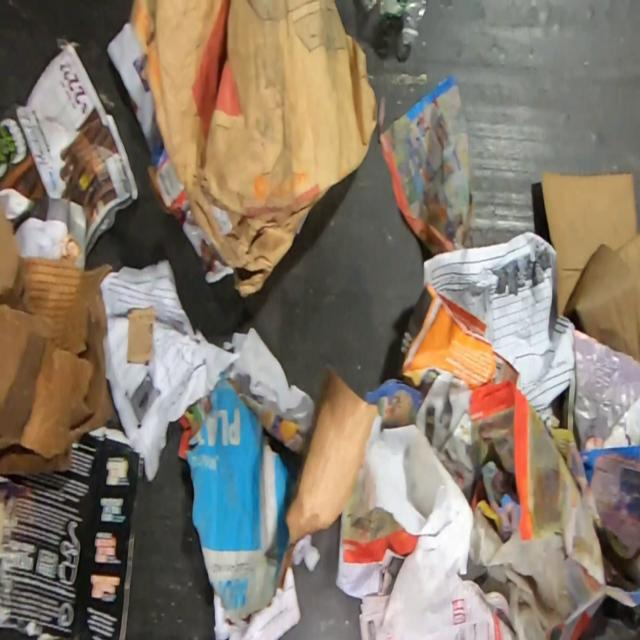cardboard: (129, 0, 379, 298), (184, 362, 380, 626), (0, 195, 116, 477), (0, 425, 146, 640), (540, 167, 640, 366), (363, 375, 427, 429), (126, 308, 156, 364)
metal: (359, 0, 428, 49)
soft_plastic: (180, 208, 262, 285), (144, 125, 188, 221)
